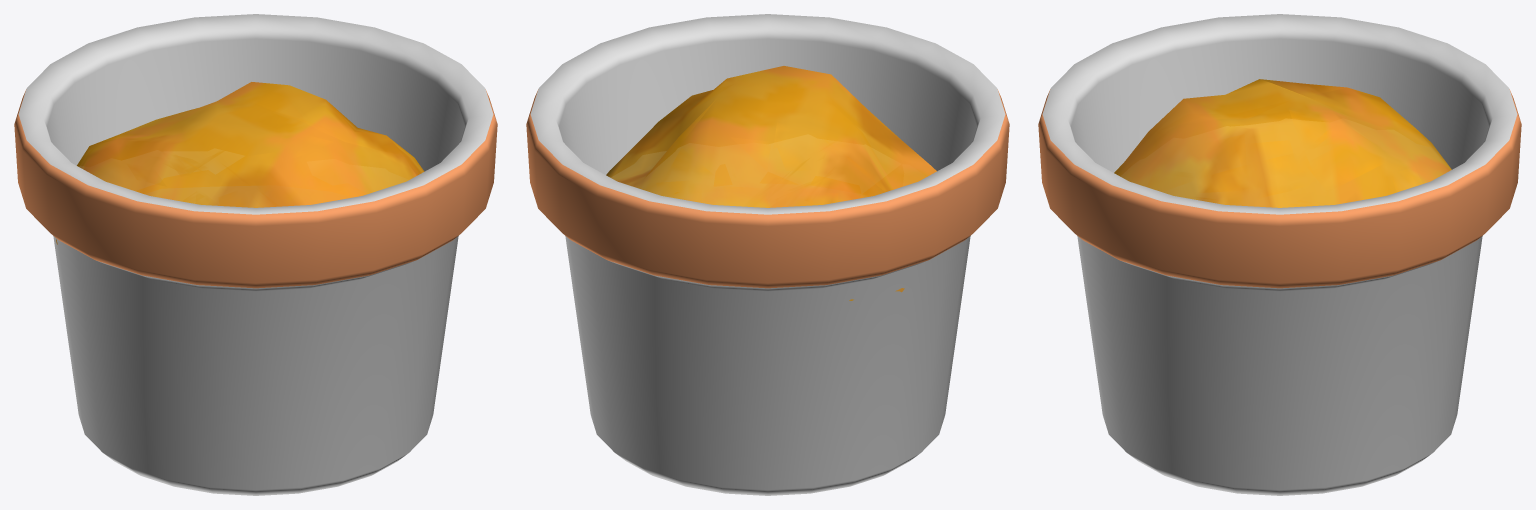
The model's file is pi_cocotteplate11_marmalade.gltf.
3 renders of one model, left to right at view 1: azimuth 30°, elevation 25°; view 2: azimuth 150°, elevation 25°; view 3: azimuth 270°, elevation 25°, orthographic.
Visible parts, largest first — view 1: pi_cocotteplate11_mesh_shape:pi_cocotteplate11_body, pi_marmalade01_mesh_shape:pi_cocotteplate11_marmalade_body; view 2: pi_cocotteplate11_mesh_shape:pi_cocotteplate11_body, pi_marmalade01_mesh_shape:pi_cocotteplate11_marmalade_body; view 3: pi_cocotteplate11_mesh_shape:pi_cocotteplate11_body, pi_marmalade01_mesh_shape:pi_cocotteplate11_marmalade_body.
Part boxes in pixels (x1,y1,x2,y2): pi_cocotteplate11_mesh_shape:pi_cocotteplate11_body: [14, 14, 497, 495]; pi_marmalade01_mesh_shape:pi_cocotteplate11_marmalade_body: [56, 82, 424, 244]; pi_cocotteplate11_mesh_shape:pi_cocotteplate11_body: [526, 14, 1009, 495]; pi_marmalade01_mesh_shape:pi_cocotteplate11_marmalade_body: [606, 66, 936, 300]; pi_cocotteplate11_mesh_shape:pi_cocotteplate11_body: [1038, 14, 1521, 495]; pi_marmalade01_mesh_shape:pi_cocotteplate11_marmalade_body: [1114, 79, 1451, 207].
Size of the model in its own units: 0.0797 by 0.0593 by 0.0797.
2 materials, 2 textured.
